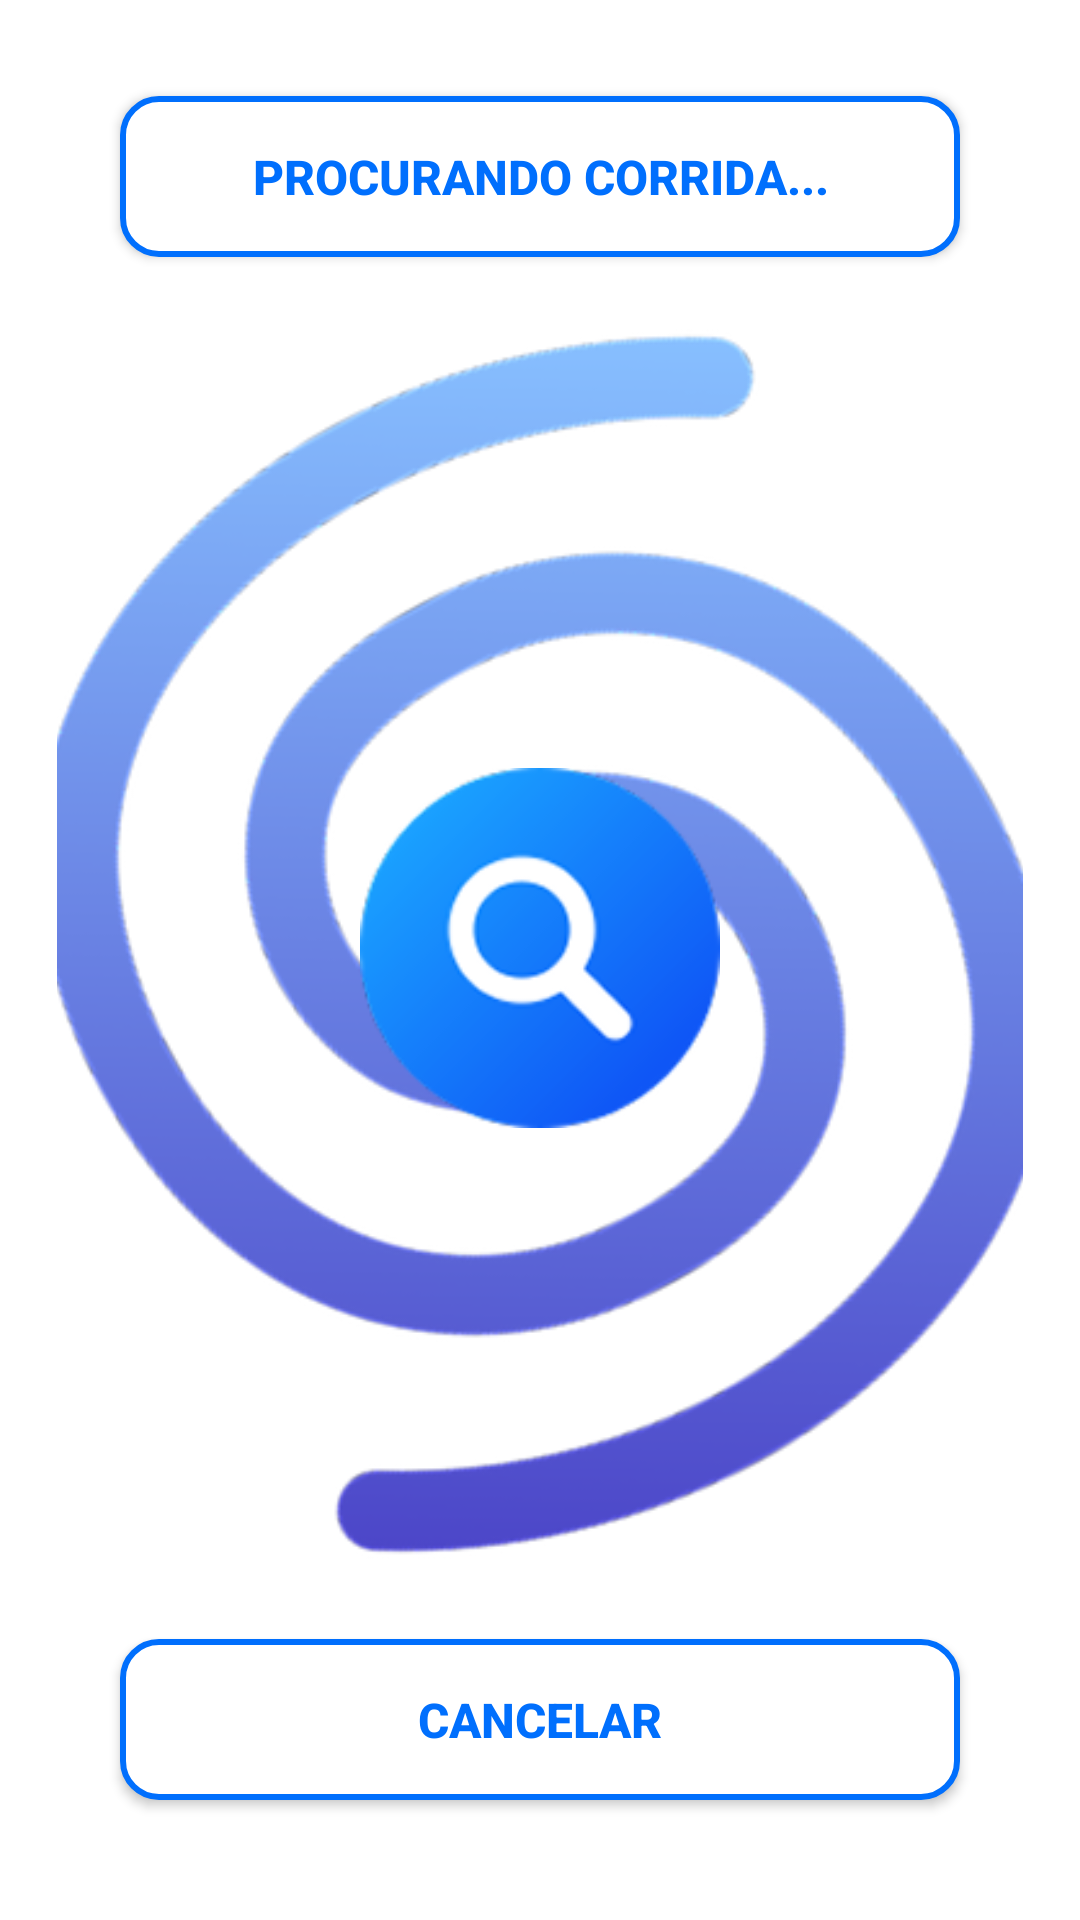

Named icons in this screenshot (1080w x 1920h) and their bounding boxes, (x1, y1, x2, y2):
searching: (360, 768, 720, 1128)
